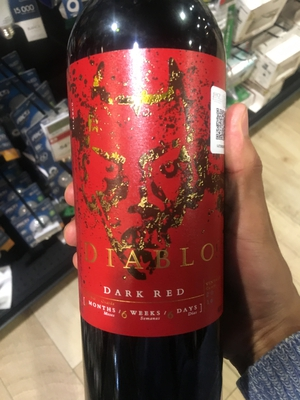diablo dark red: (62, 10, 239, 400)
